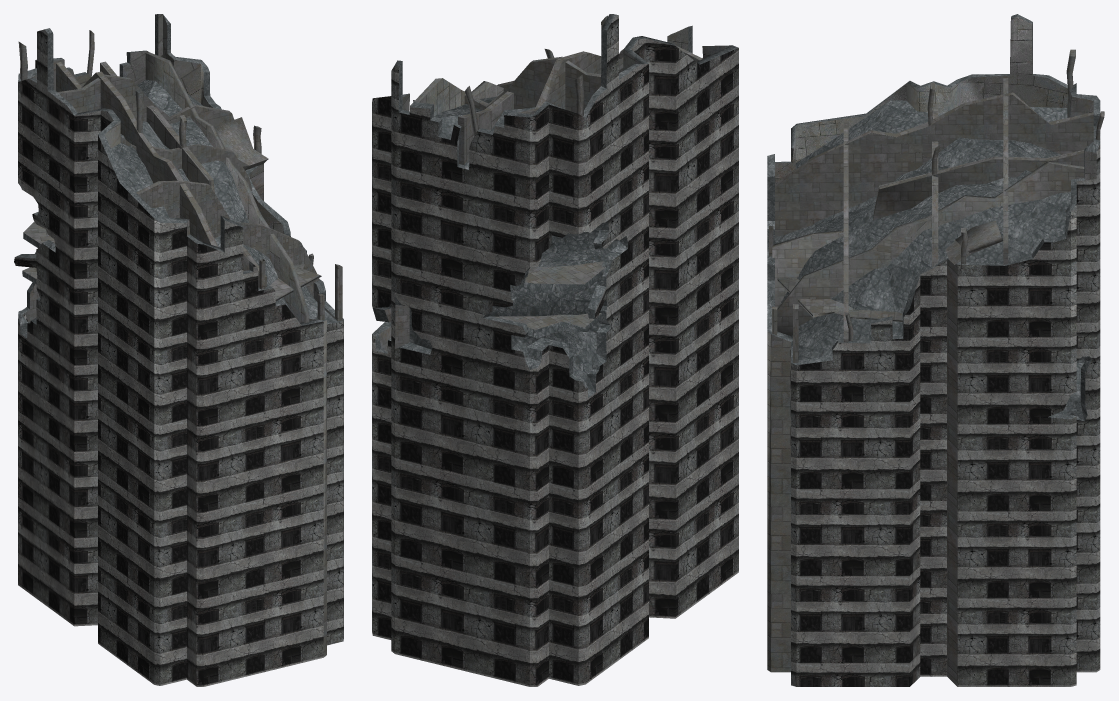
Rendered from Building_Broken4.fbx.
The picture shows the model from 3 angles, left to right: view 1: azimuth 30°, elevation 25°; view 2: azimuth 150°, elevation 25°; view 3: azimuth 270°, elevation 25°; orthographic projection. The views are drawn at different scales.
Parts seen in each view (by area): view 1: SMO_BG50_BUILD_UTZ_0010_a; view 2: SMO_BG50_BUILD_UTZ_0010_a; view 3: SMO_BG50_BUILD_UTZ_0010_a.
Part boxes in pixels (x1,y1,x2,y2): SMO_BG50_BUILD_UTZ_0010_a: [14, 14, 343, 686]; SMO_BG50_BUILD_UTZ_0010_a: [372, 14, 738, 686]; SMO_BG50_BUILD_UTZ_0010_a: [767, 14, 1104, 686].
Bounding box in the file's own units: 6963 × 19501 × 10295.
